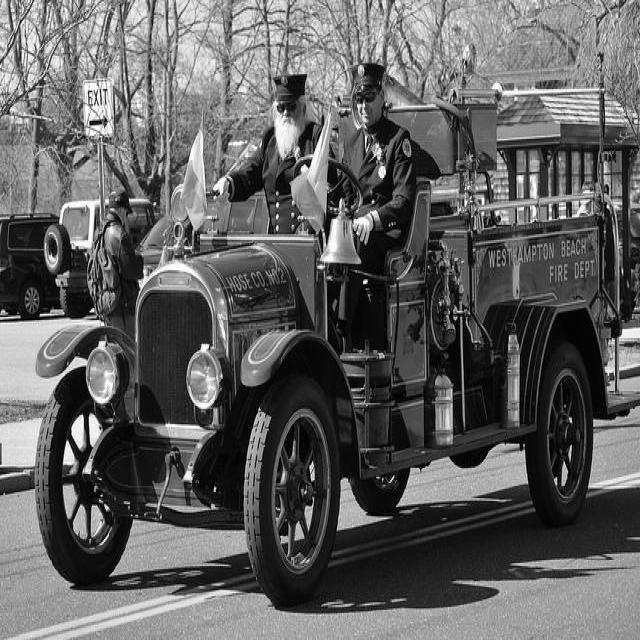vehicle: (34, 65, 614, 601), (43, 198, 157, 320), (1, 211, 63, 318), (135, 211, 171, 267)
